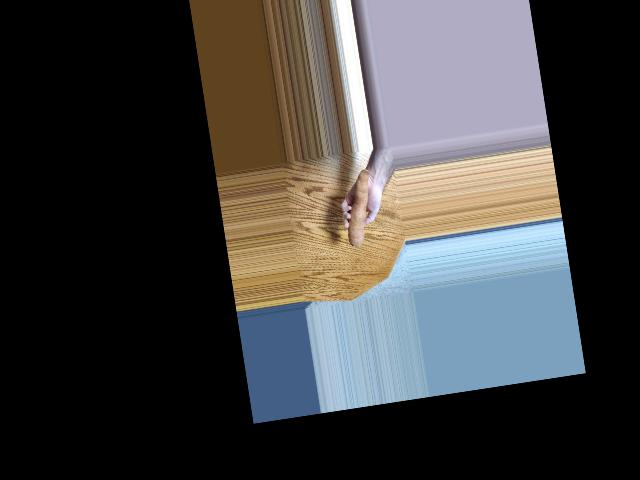sweet_potato: (337, 173, 376, 245)
